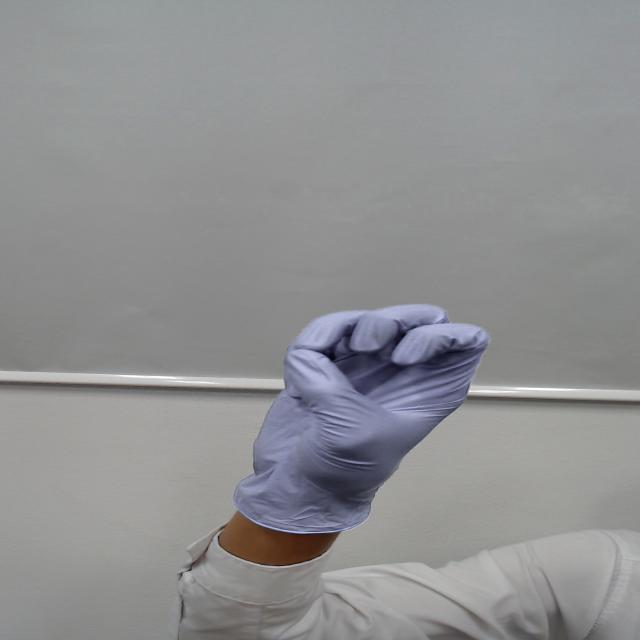glove: (245, 295, 501, 465)
